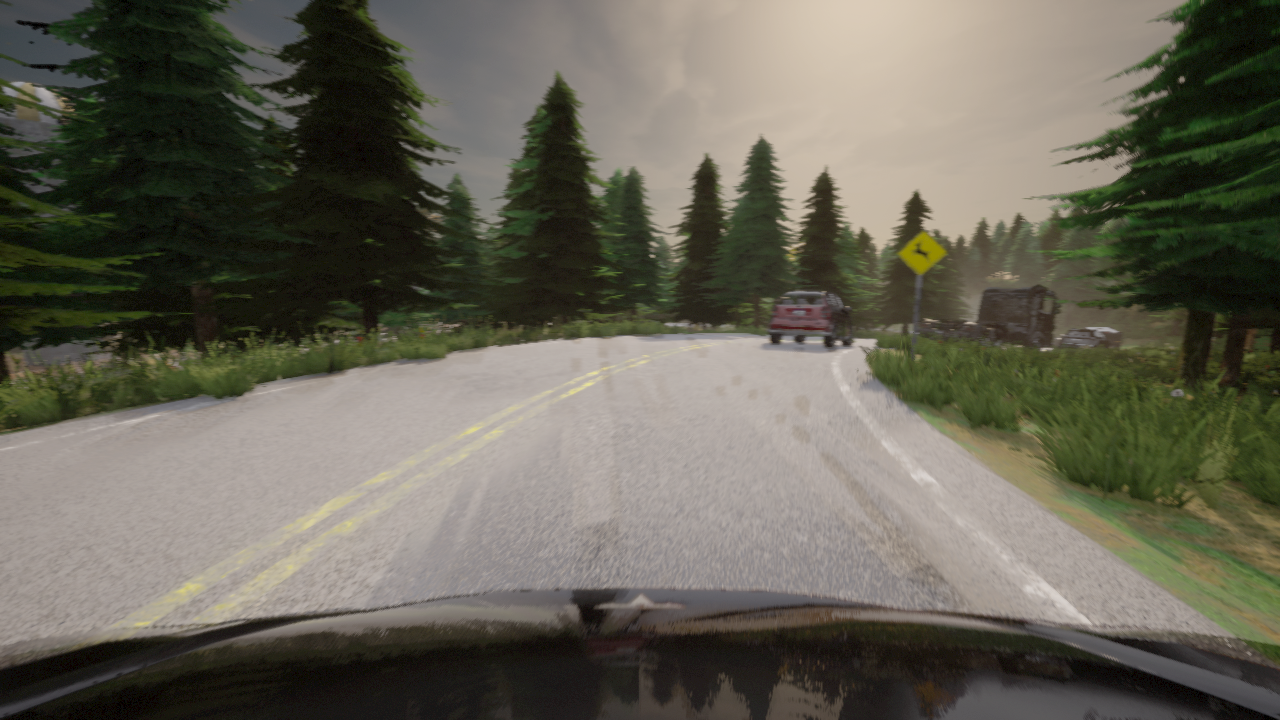cyclist: (0, 588, 1279, 719), (917, 286, 1059, 349), (768, 290, 852, 347), (1058, 328, 1109, 349), (1082, 327, 1122, 349), (99, 360, 143, 374), (1052, 334, 1064, 347), (351, 331, 356, 333), (419, 324, 422, 325)
